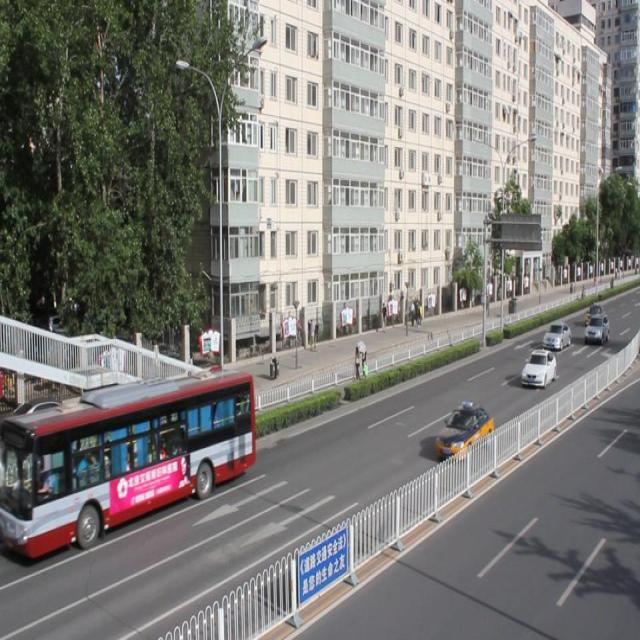car: (435, 402, 493, 460), (519, 346, 554, 386)
van: (8, 368, 254, 558)
